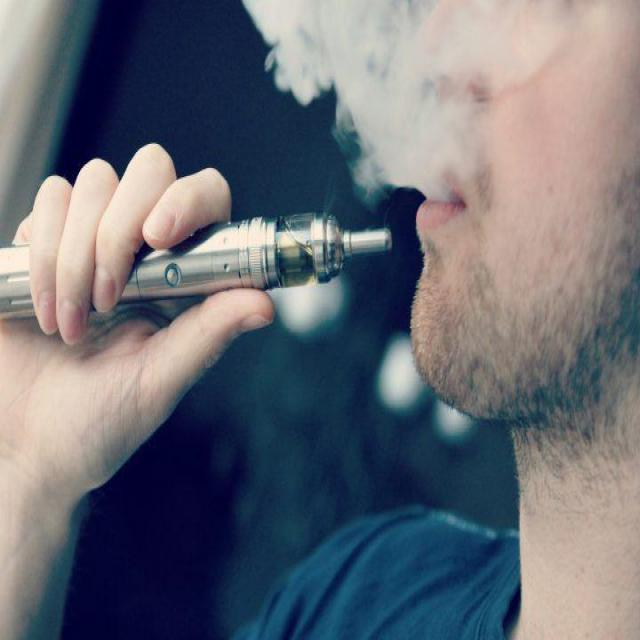Вейп: (0, 215, 392, 313)
Дым: (244, 0, 512, 195)
